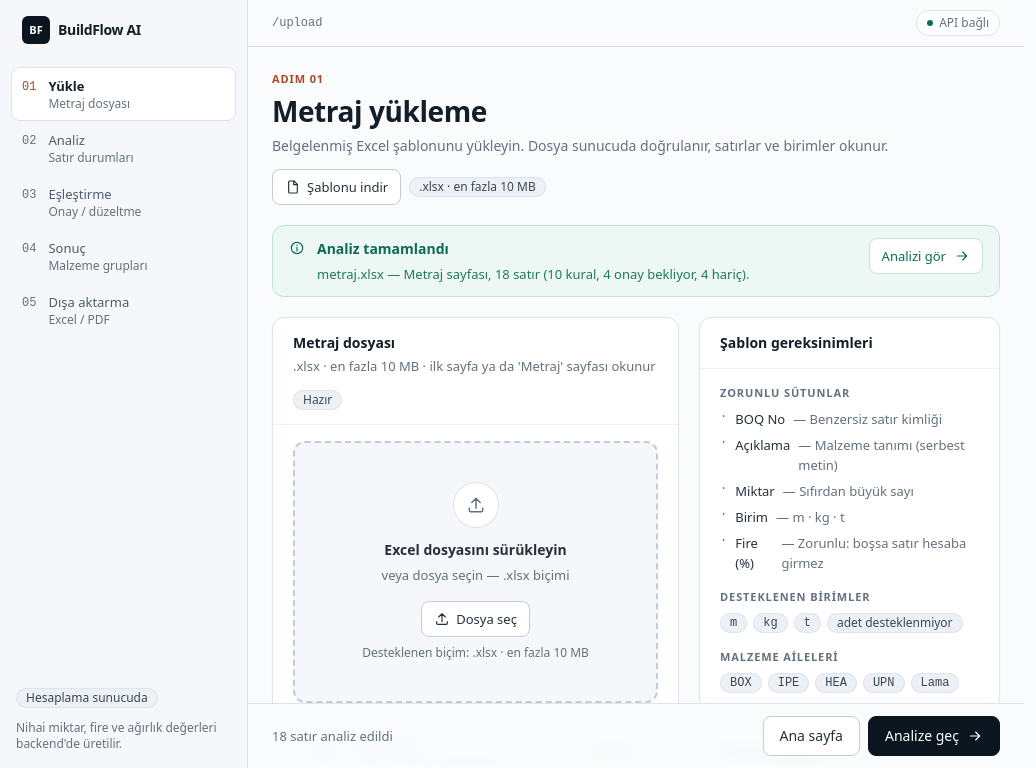
Test: ExportPage › raporda yer alacak malzemeleri sunucu verisinden önizler
Earlier steps of the test are not shown.
Expected: the text "Analiz tamamlandı" is shown, [317,239,449,258]
Click the button "Analize geç" at [934, 736], box [868,716,1000,756]
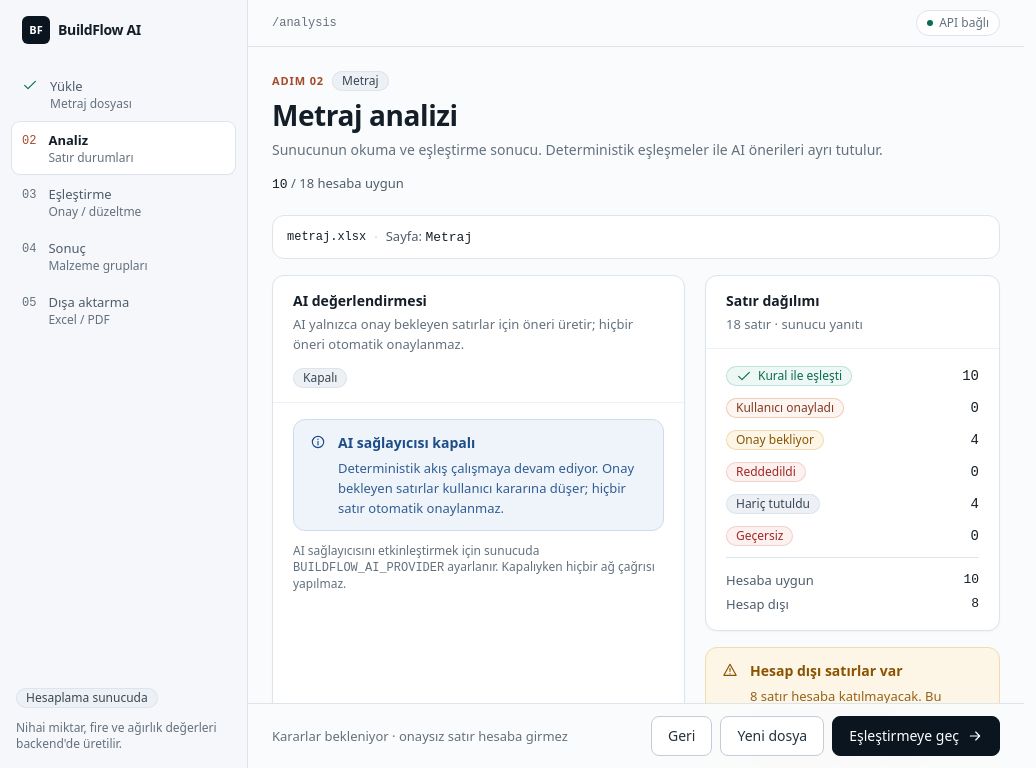
Now the heading "Metraj analizi" is shown, box [272,96,458,134]
Click the button "Eşleştirmeye geç" at [916, 736], box [832,716,1000,756]
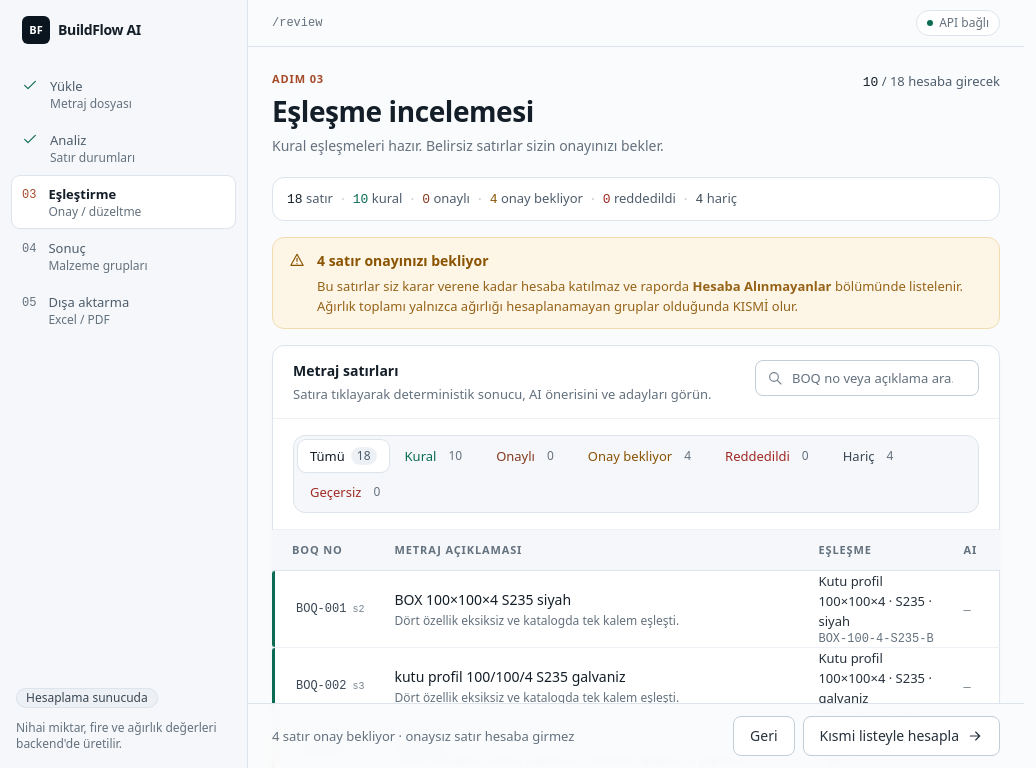
Now the heading "Eşleşme incelemesi" is shown, box [272,92,534,130]
Click the button "Kısmi listeyle hesapla" at [901, 736], box [803,716,1000,756]
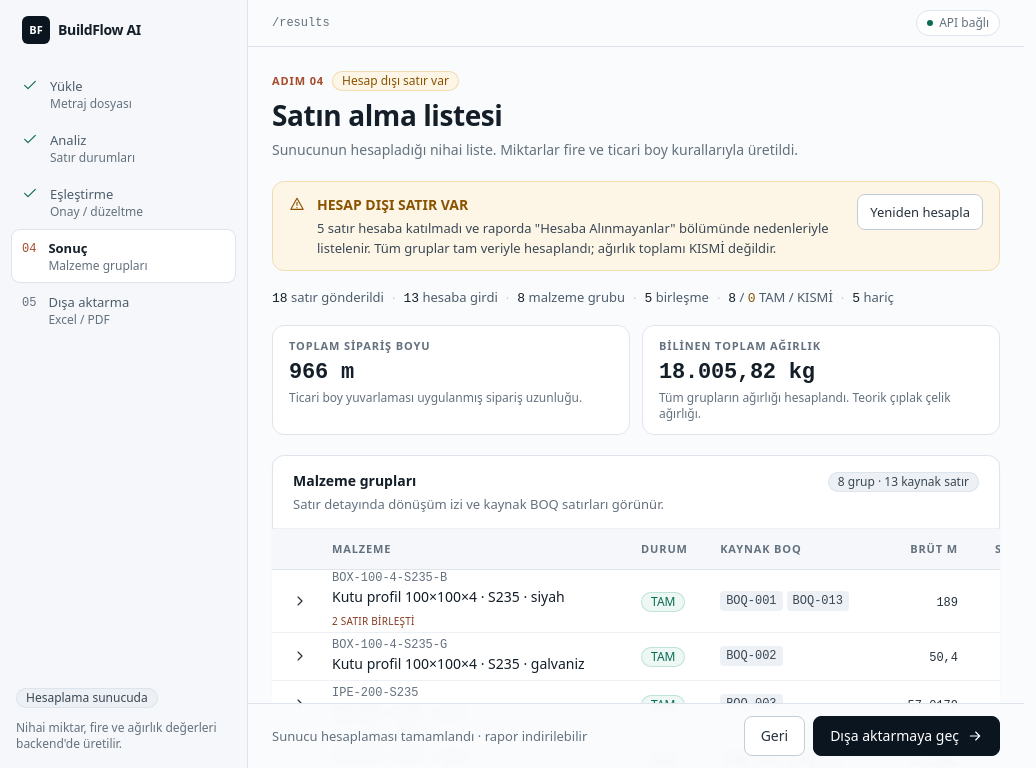
Now the heading "Satın alma listesi" is shown, box [272,96,502,134]
Click the button "Dışa aktarmaya geç" at [907, 736], box [813,716,1000,756]
(page scrolled)
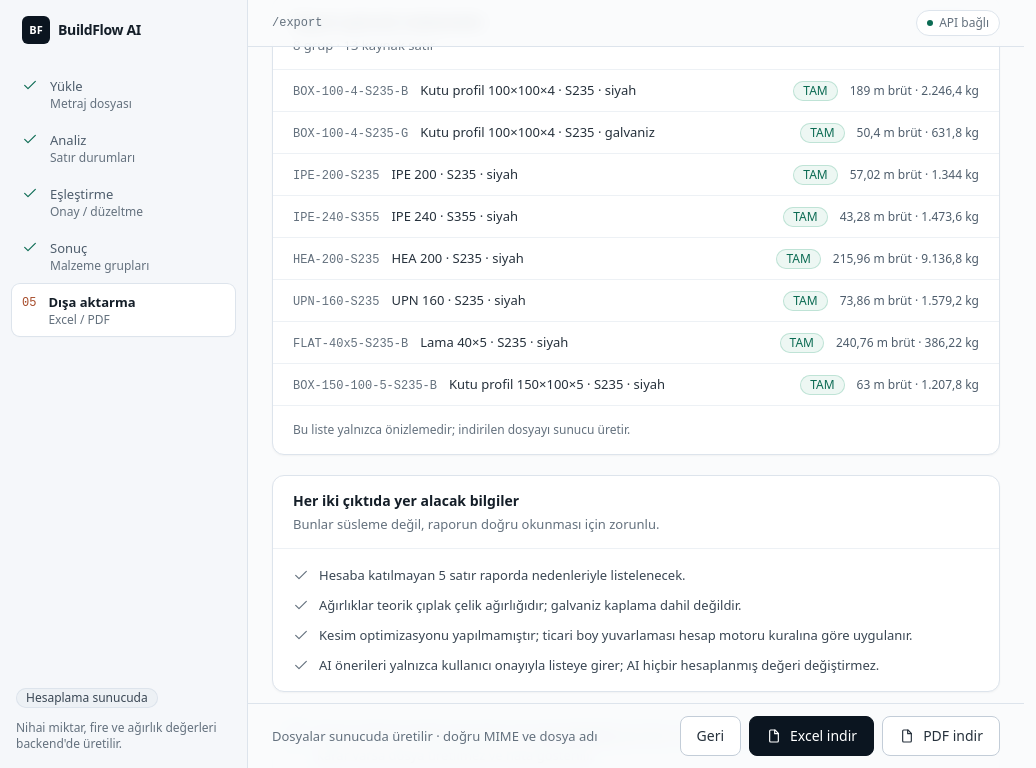
Now the text "Kutu profil 100×100×4 · S235 · siyah" is shown, box [420,81,636,99]
Now the heading "Rapora girecek malzemeler" is shown, box [293,11,484,33]
Now the list item "BOX-150-100-5-S235-B" shows "63 m brüt", box [293,375,979,395]
